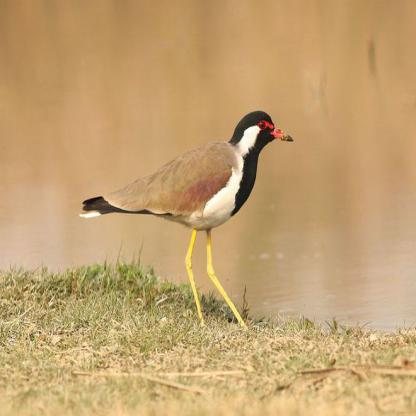Burung: (78, 110, 293, 331)
